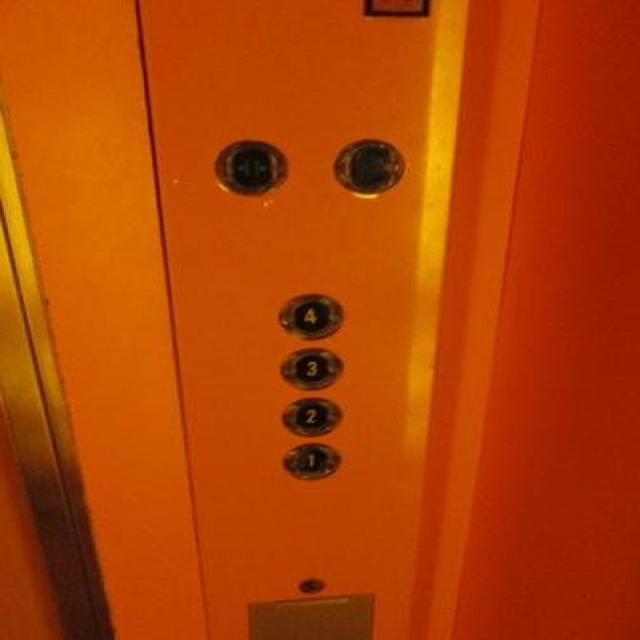1: (280, 440, 341, 481)
2: (279, 396, 344, 438)
3: (278, 345, 346, 391)
4: (277, 292, 347, 340)
blur: (335, 136, 408, 196)
open: (210, 139, 286, 198)
